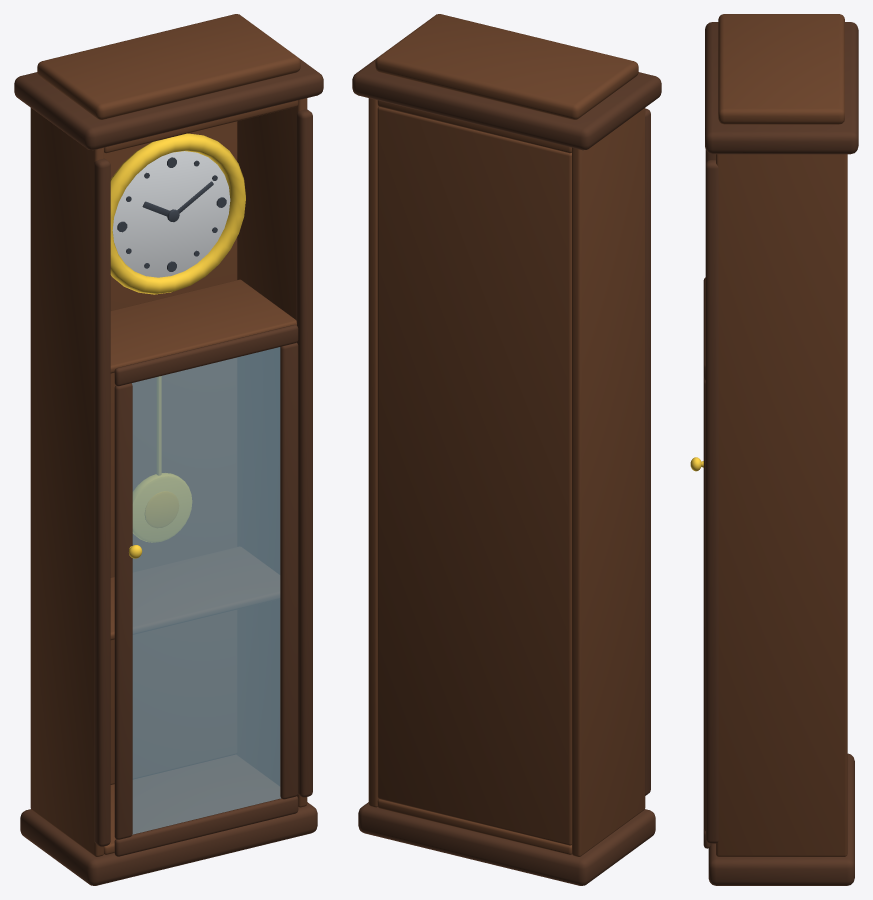
The model's file is relogio_pe_madeira.glb.
3 renders of one model, left to right at view 1: azimuth 30°, elevation 25°; view 2: azimuth 150°, elevation 25°; view 3: azimuth 270°, elevation 25°, orthographic.
Visible parts, largest first — view 1: relogio_pe_madeira, porta_1; view 2: relogio_pe_madeira; view 3: relogio_pe_madeira, porta_1.
Part boxes in pixels (box(x1,y1,x2,y2)): relogio_pe_madeira: box(14, 14, 323, 885); porta_1: box(114, 325, 298, 856); relogio_pe_madeira: box(352, 14, 661, 885); relogio_pe_madeira: box(705, 14, 858, 885); porta_1: box(690, 277, 710, 848).
Size of the model in its own units: 0.56 by 1.75 by 0.3445.
Materials: 2 (1 with a texture image).
